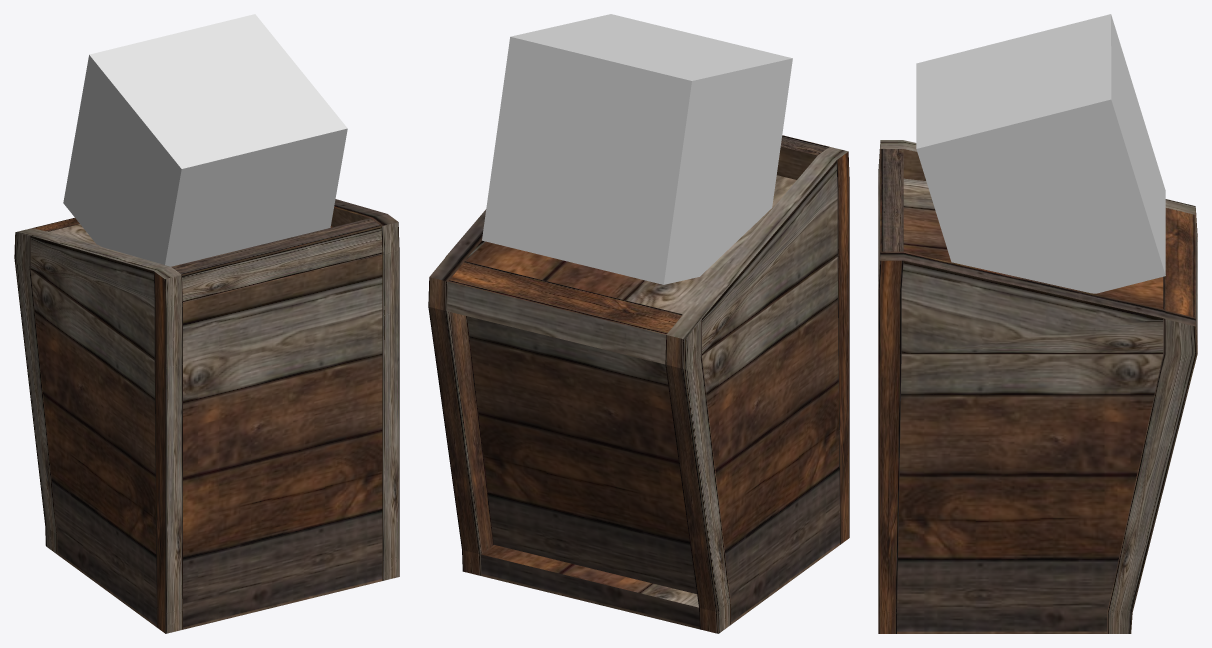
Rendered from stand.glb.
3 renders of one model, left to right at view 1: azimuth 30°, elevation 25°; view 2: azimuth 150°, elevation 25°; view 3: azimuth 270°, elevation 25°, orthographic. The views are drawn at different scales.
Visible parts, largest first — view 1: stand, placement; view 2: stand, placement; view 3: stand, placement.
Part boxes in pixels (<box>): stand: <box>14,199,399,633</box>; placement: <box>63,14,347,266</box>; stand: <box>428,135,849,633</box>; placement: <box>482,14,792,284</box>; stand: <box>878,140,1197,633</box>; placement: <box>916,14,1165,293</box>.
Bounding box in the file's own units: 1.65 × 3.3 × 1.85.
1 material, 1 textured.
